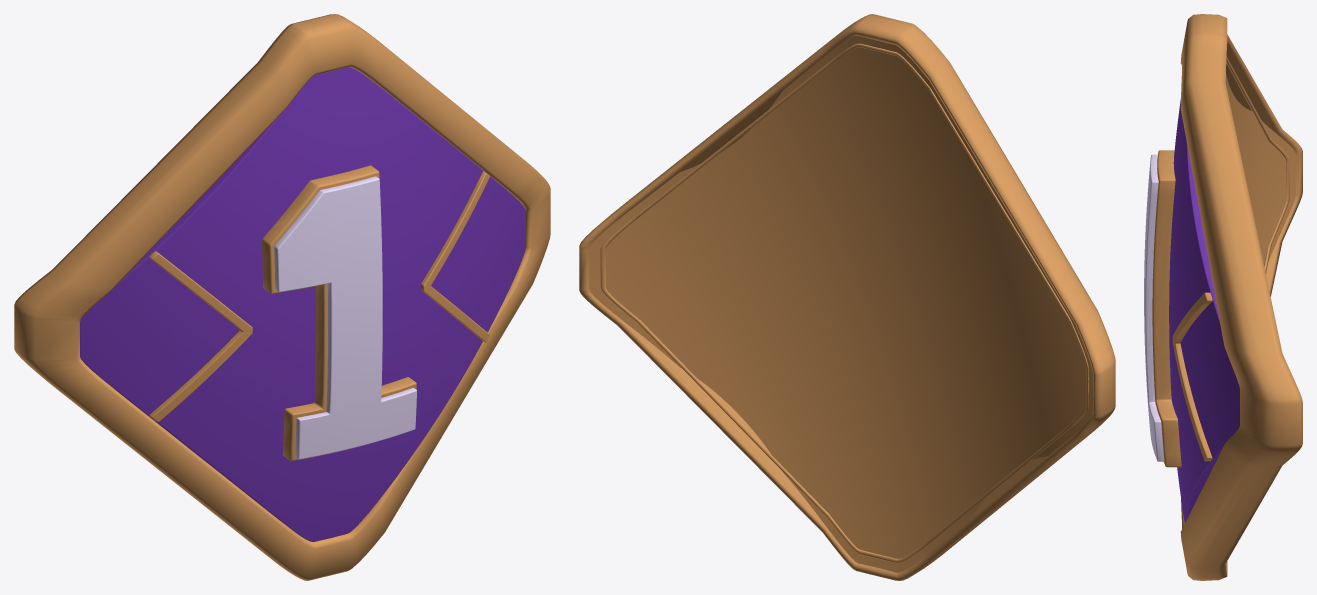
Rendered from first-win.glb.
3 renders of one model, left to right at view 1: azimuth 30°, elevation 25°; view 2: azimuth 150°, elevation 25°; view 3: azimuth 270°, elevation 25°, orthographic.
Parts seen in each view (by area): view 1: acrylic_diamond_face_conforming, metal_diamond_frame, ivory_number_1_0_0_conforming, metal_number_1_0_0_conforming, metal_diamond_divider_left1_conforming, metal_diamond_divider_1_conforming; view 2: satin_diamond_back_conforming, metal_diamond_frame, satin_diamond_rear_border; view 3: metal_diamond_frame, acrylic_diamond_face_conforming, metal_number_1_0_0_conforming, satin_diamond_back_conforming, ivory_number_1_0_0_conforming, metal_diamond_divider_1_conforming, satin_diamond_rear_border.
Part boxes in pixels (x1,y1,x2,y2): acrylic_diamond_face_conforming: (80,67,525,541); metal_diamond_frame: (14,14,550,580); ivory_number_1_0_0_conforming: (274,176,416,459); metal_number_1_0_0_conforming: (262,165,416,460); metal_diamond_divider_left1_conforming: (149,251,252,422); metal_diamond_divider_1_conforming: (421,171,489,342); satin_diamond_back_conforming: (589,36,1092,572); metal_diamond_frame: (579,14,1115,580); satin_diamond_rear_border: (600,43,1088,563); metal_diamond_frame: (1180,14,1302,580); acrylic_diamond_face_conforming: (1169,99,1239,523); metal_number_1_0_0_conforming: (1152,150,1181,467); satin_diamond_back_conforming: (1225,73,1295,265); ivory_number_1_0_0_conforming: (1144,154,1164,461); metal_diamond_divider_1_conforming: (1172,292,1212,461); satin_diamond_rear_border: (1226,57,1289,273).
Size of the model in its own units: 2 by 2 by 0.527.
